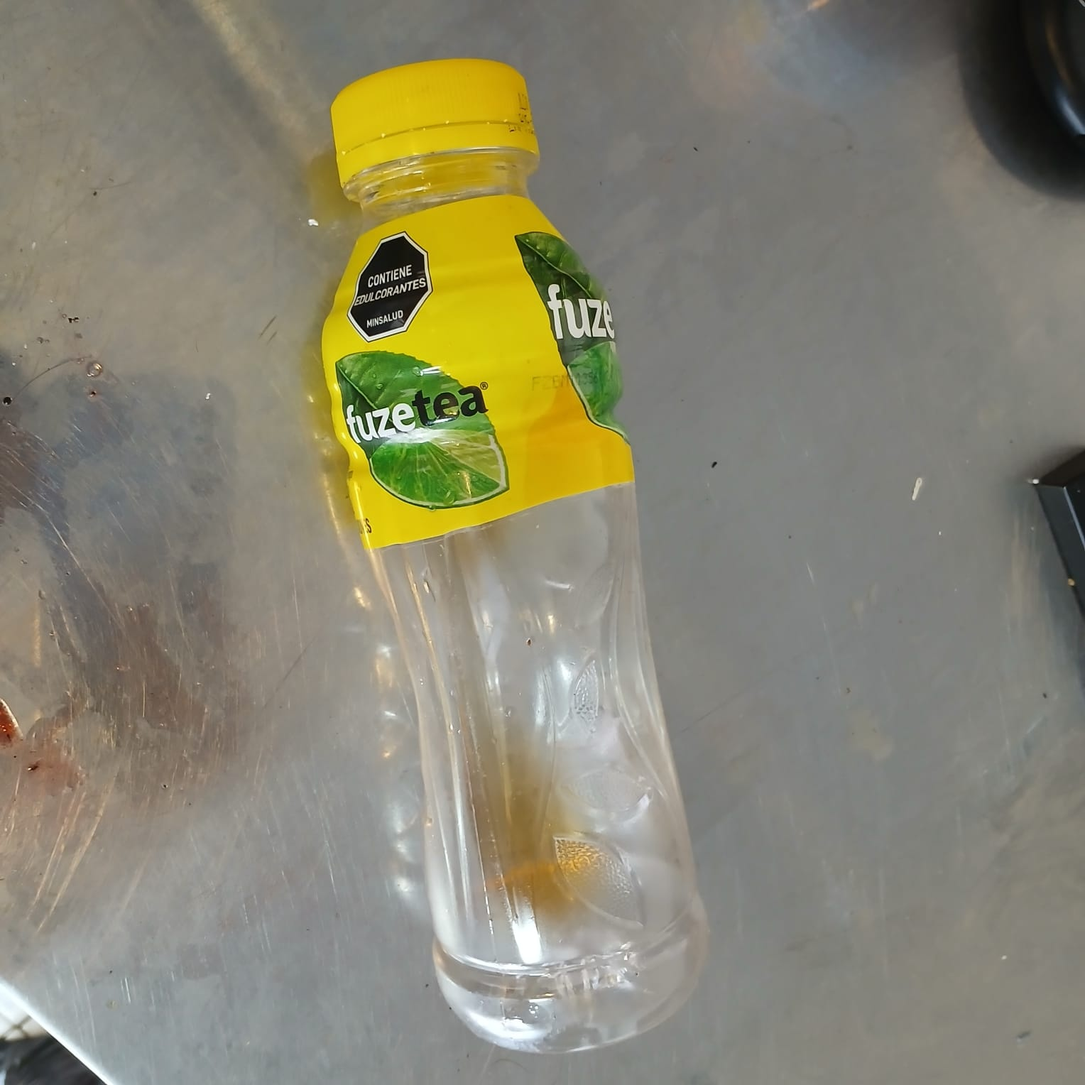Plastico: (319, 58, 708, 1050)
